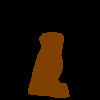vestito: (28, 32, 70, 98)
